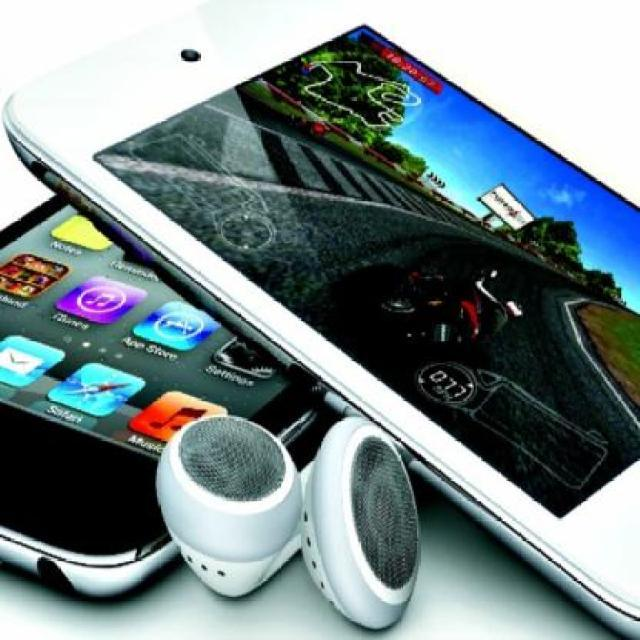earphone: (163, 433, 467, 635), (90, 295, 178, 298)
smart phone: (5, 184, 162, 594)
tablet: (10, 8, 640, 297)
